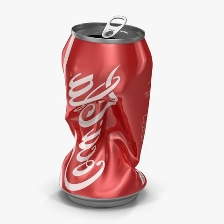can: (55, 14, 156, 210)
